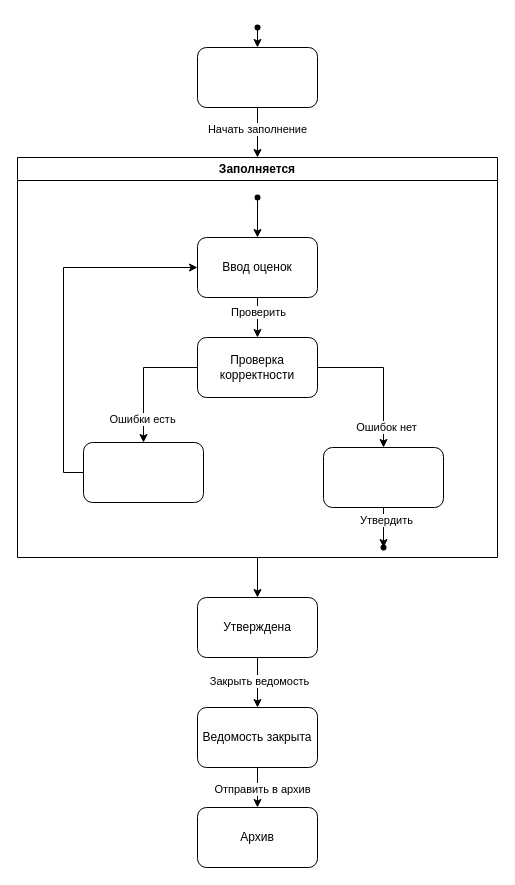
The diagram is 515 pixels wide and 885 high, and some of its shapes have lost their labels. The shapes that lost their labels are listed below. From the top down, each one's box as (x1, y1, x2, y2) in pixels, then its label:
(196, 46, 318, 108): Создана
(82, 442, 204, 502): Некорректно
(322, 446, 444, 508): Корректно
